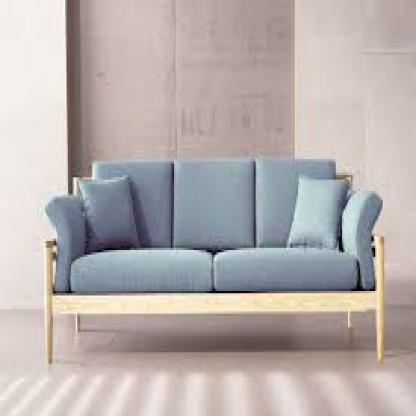sofa: (34, 161, 396, 370)
